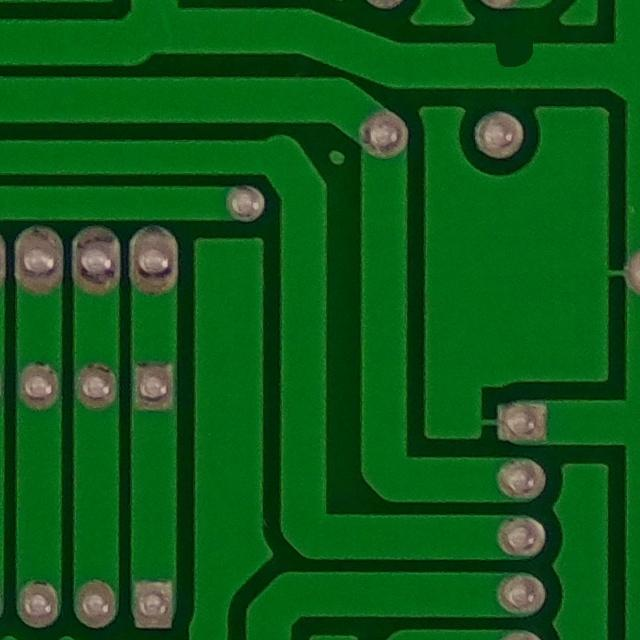mouse_bite: (464, 13, 557, 86)
